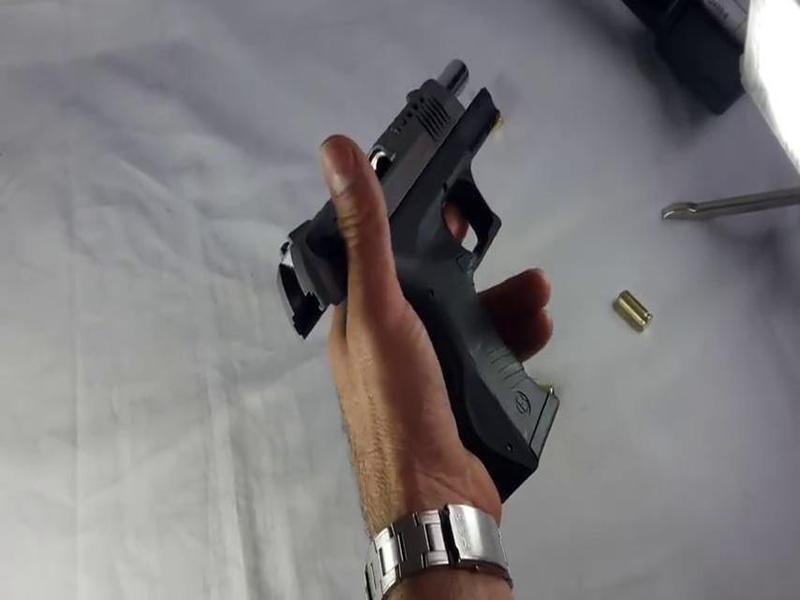Pistola: (266, 41, 580, 502)
